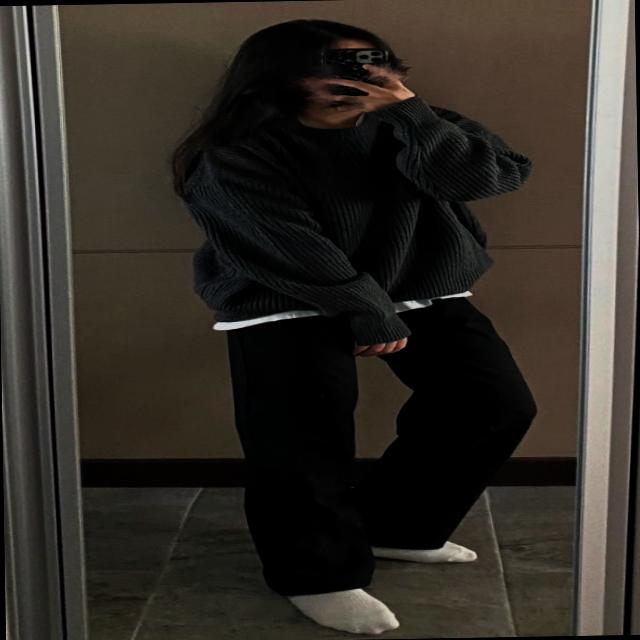slacks: (222, 294, 536, 596)
sweater: (181, 90, 542, 318)
